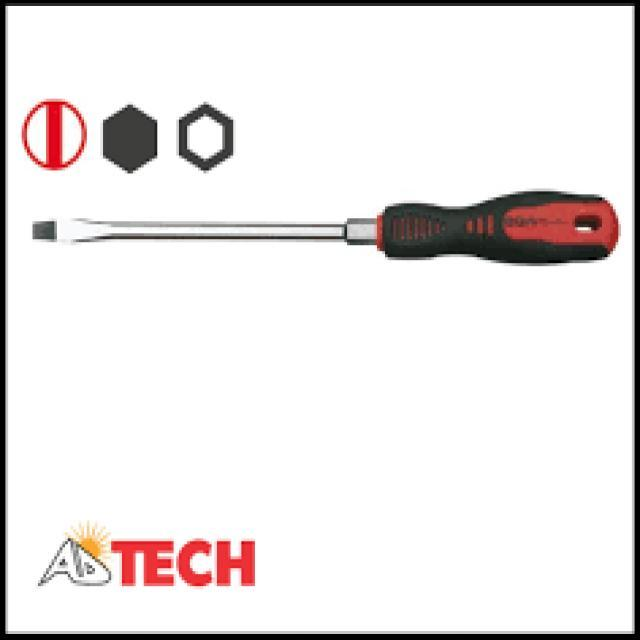screwdriver: (27, 187, 621, 268)
